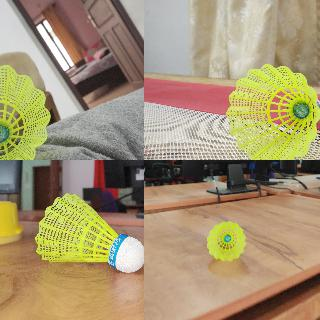shuttlecock: (225, 64, 319, 159), (34, 193, 143, 273), (0, 61, 50, 159), (207, 221, 246, 261)
